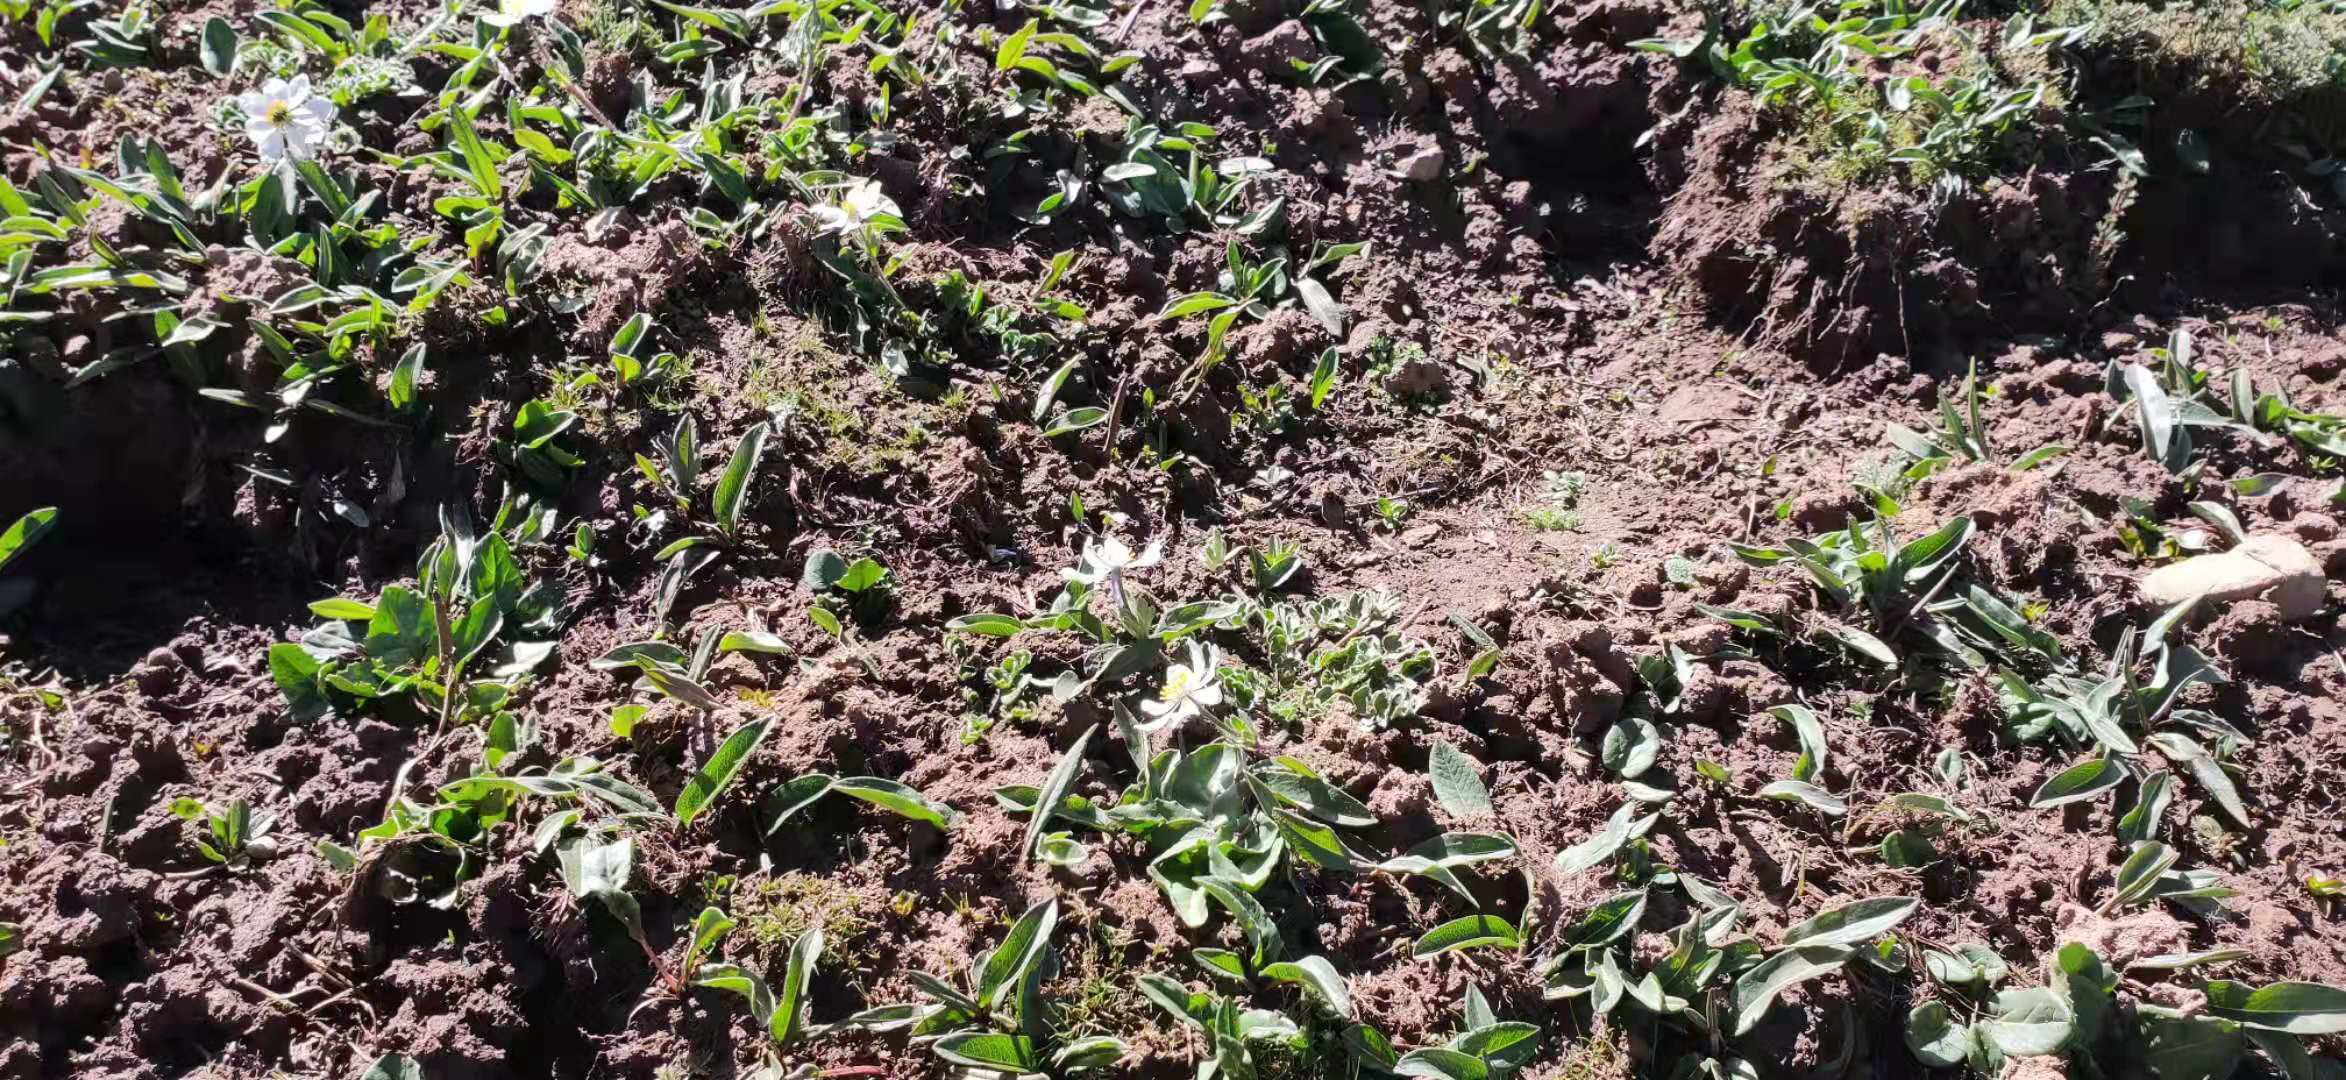w: (1106, 375, 1127, 453)
